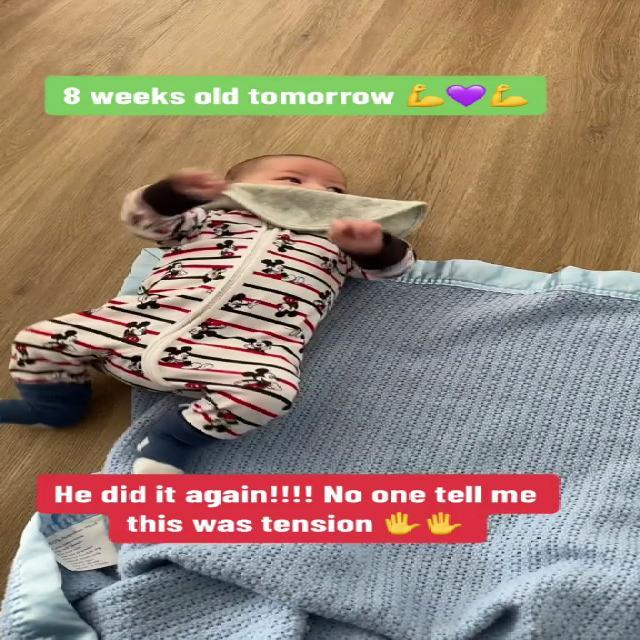baby: (0, 147, 456, 475)
